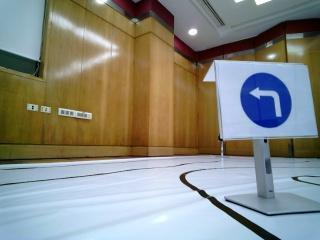left: (220, 65, 315, 140)
